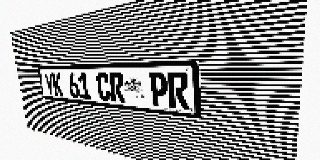1: (77, 73, 91, 99)
6: (67, 73, 80, 98)
C: (96, 73, 111, 101)
K: (52, 73, 63, 97)
P: (149, 72, 169, 107)
R: (167, 72, 189, 109), (109, 72, 125, 103)
Y: (44, 73, 55, 96)
